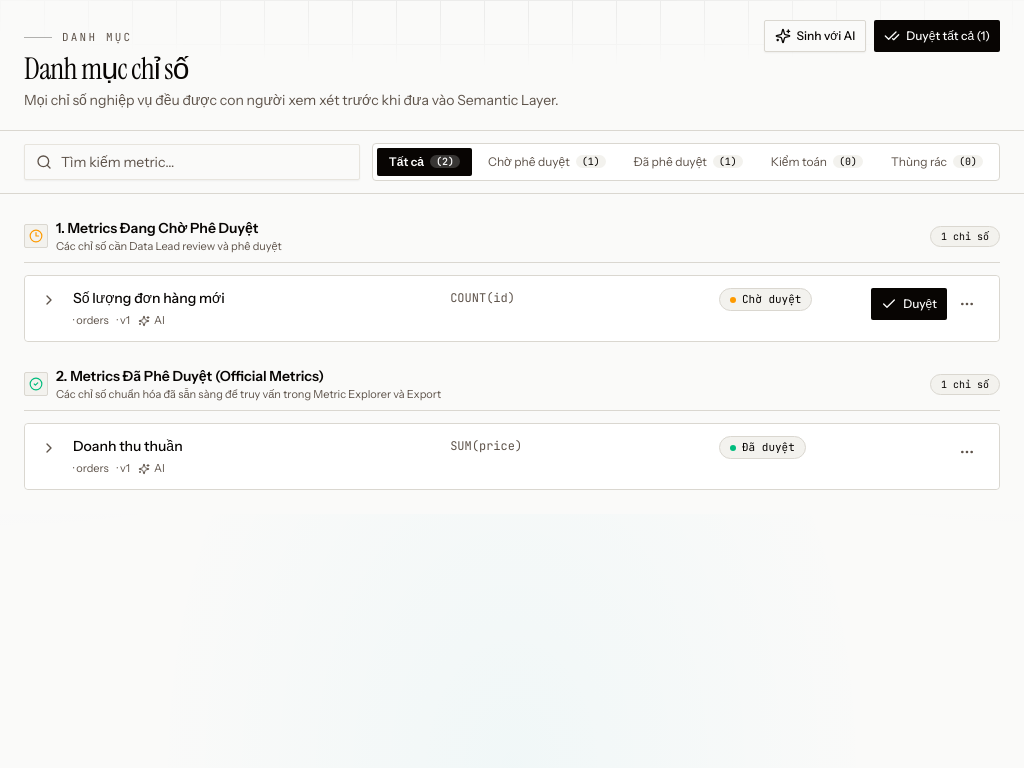
MetricsCatalogView › opens YAML from the expanded metric row
The width and height of the screenshot is (1024, 768).
expect the button "YAML" is not shown: met
Step 1. Click the button "Số lượng đơn hàng mới · orders · v1 AI COUNT(id) Chờ duyệt" → (450, 309), box x1=41 y1=288 x2=859 y2=329
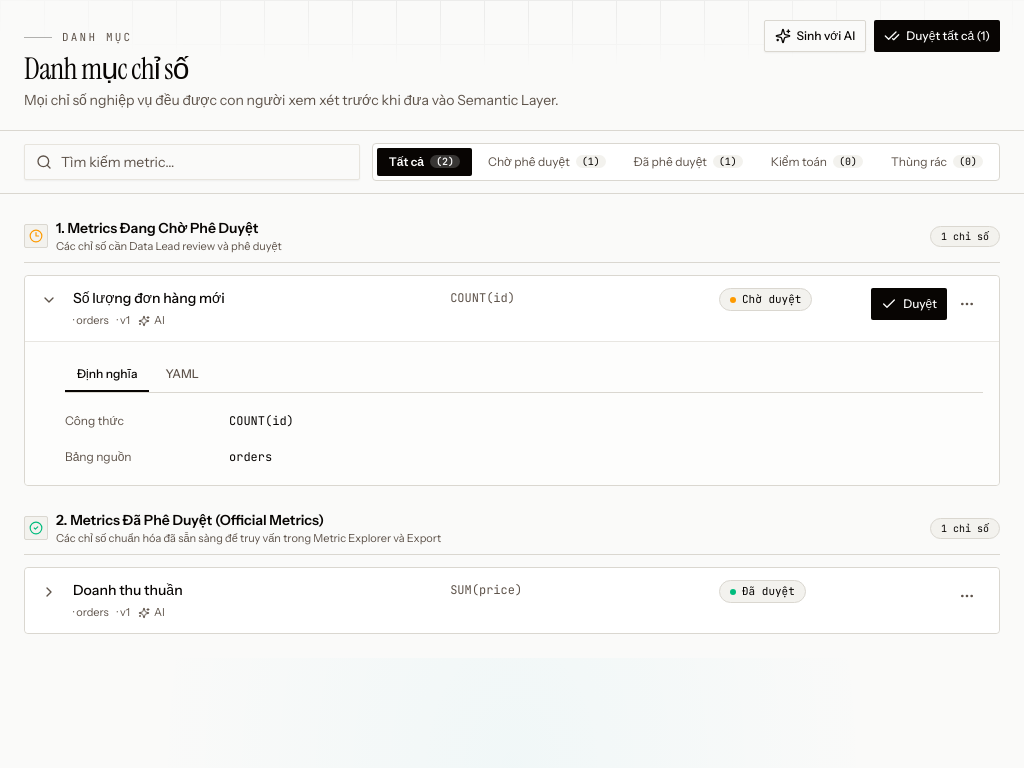
Step 2. Click the button "YAML" → (182, 375), box x1=154 y1=358 x2=211 y2=392
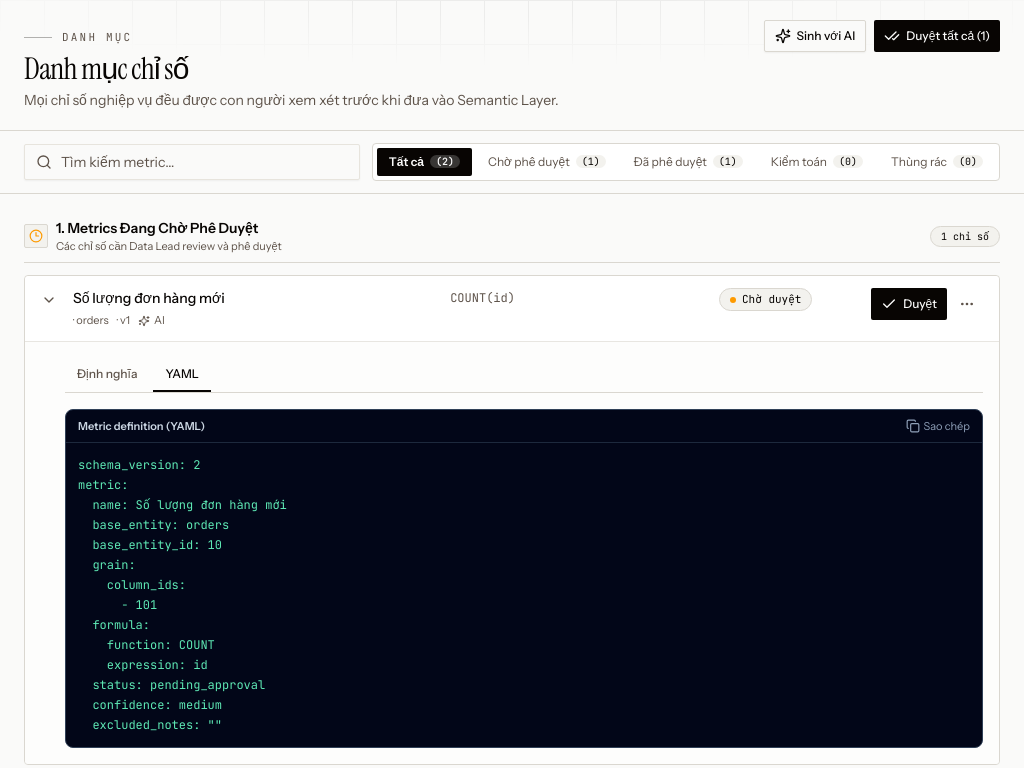
expect the text "Metric definition (YAML)" is shown: met, box x1=78 y1=418 x2=205 y2=434
